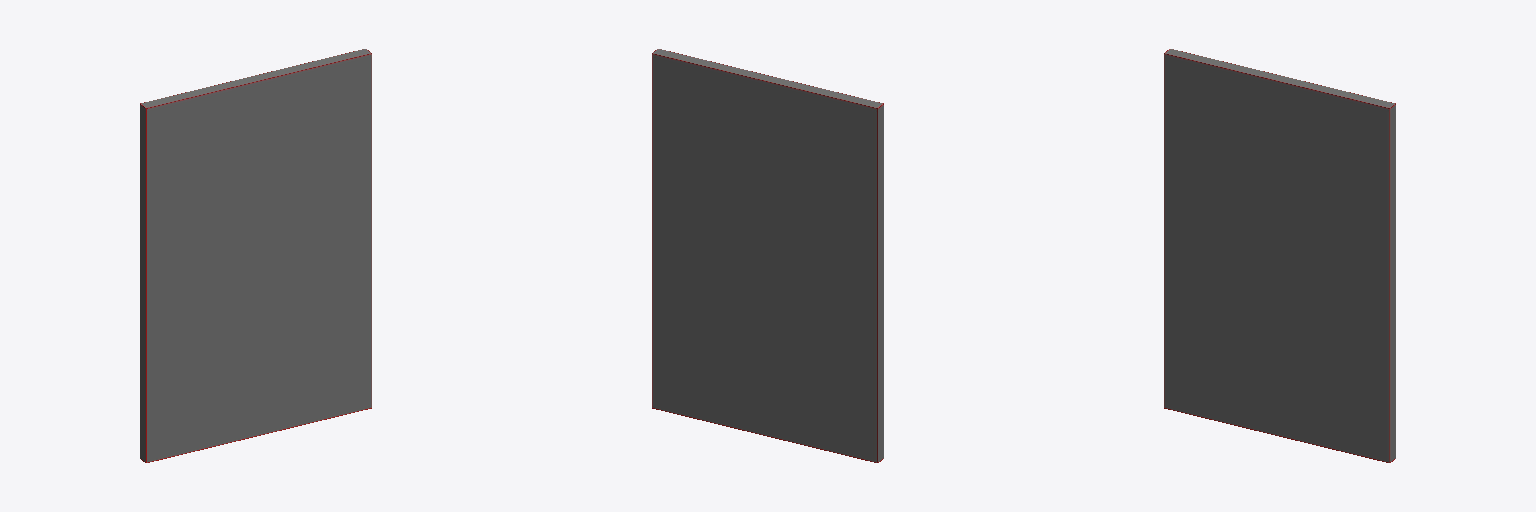
The picture shows the model from 3 angles: view 1: azimuth 30°, elevation 25°; view 2: azimuth 150°, elevation 25°; view 3: azimuth 330°, elevation 25°; orthographic projection.
Visible parts, largest first — view 1: picture; view 2: picture; view 3: picture.
Boxes of the visible parts, <box> form: picture: <box>140,49,371,462</box>; picture: <box>652,49,883,462</box>; picture: <box>1164,49,1395,462</box>.
Bounding box in the file's own units: 100 × 150 × 5.
1 materials, 1 textured.